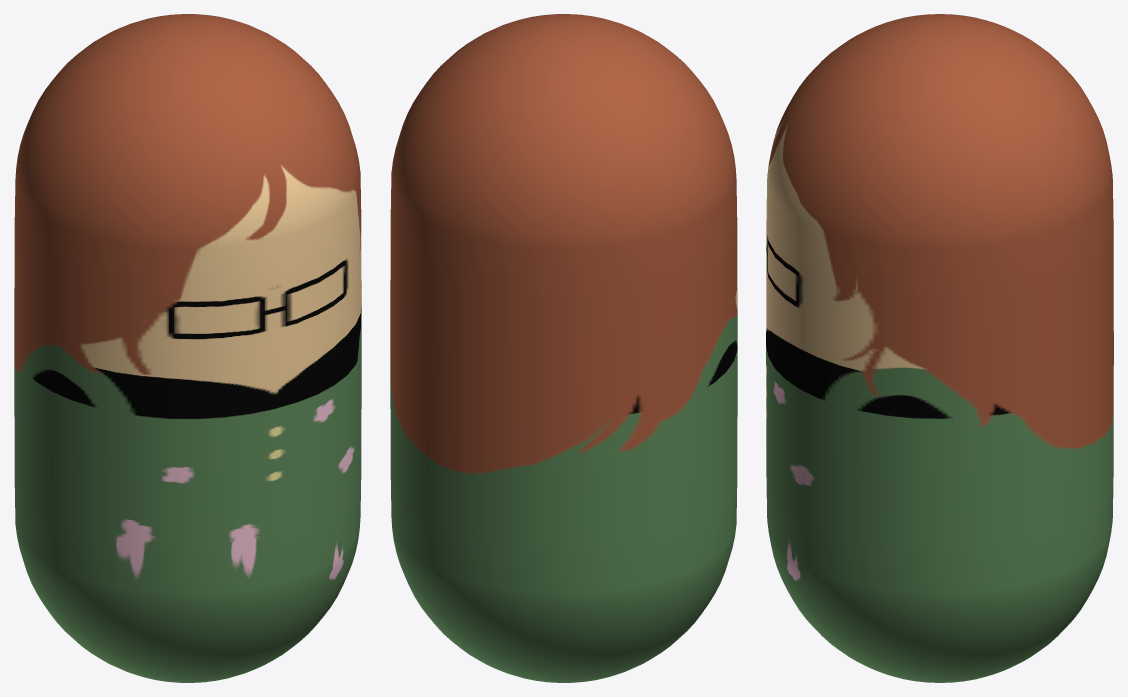
File: girl1Capsule.fbx
The picture shows the model from 3 angles, left to right: view 1: azimuth 30°, elevation 25°; view 2: azimuth 150°, elevation 25°; view 3: azimuth 270°, elevation 25°; orthographic projection.
Visible parts, largest first — view 1: girl1Capsule; view 2: girl1Capsule; view 3: girl1Capsule.
Part boxes in pixels (x1,y1,x2,y2): girl1Capsule: (14,14,361,682); girl1Capsule: (390,14,737,682); girl1Capsule: (766,14,1113,682).
Size of the model in its own units: 1.98 by 4 by 1.98.
1 material, 1 textured.
